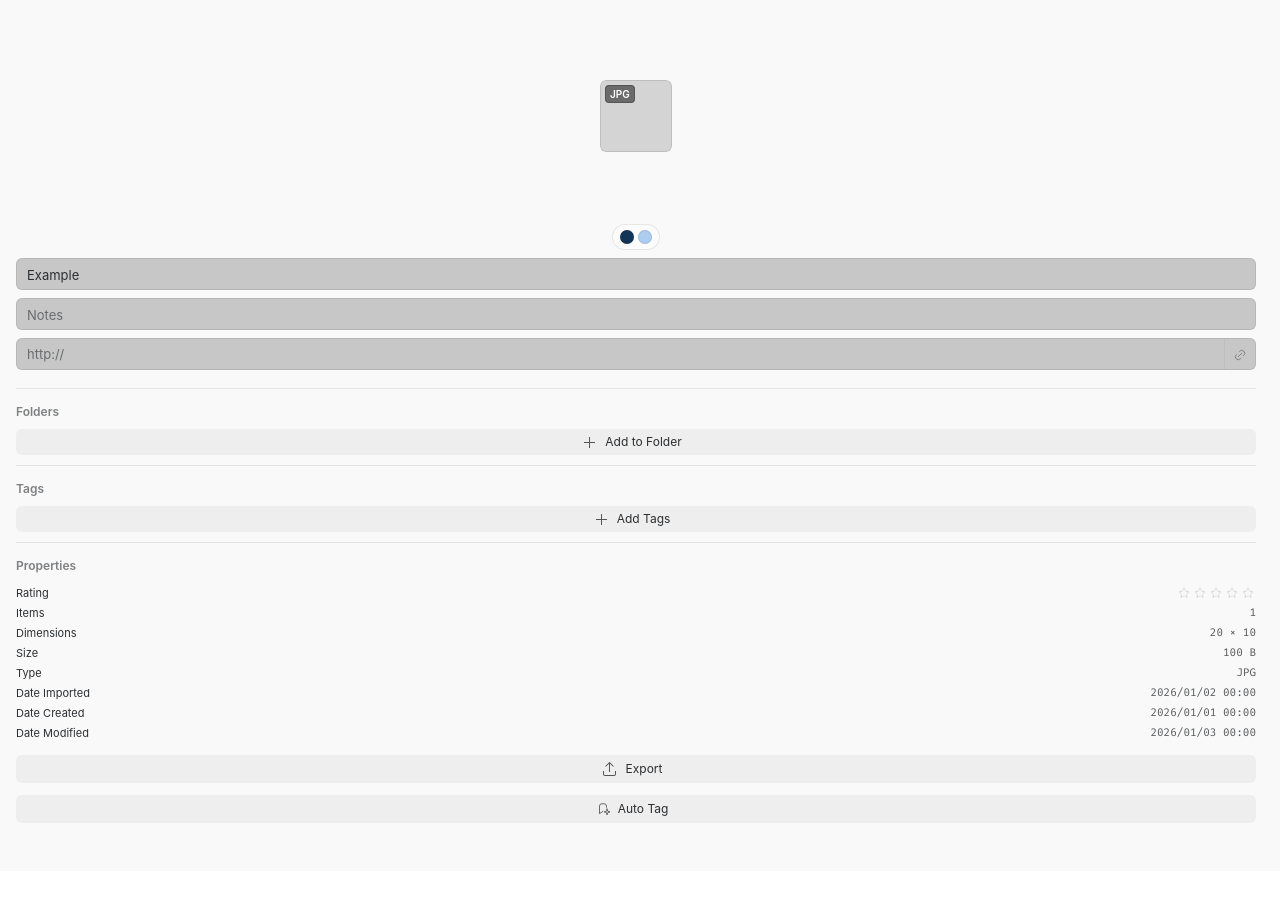
Inspector presentation branches › reuses the shared entity actions for a single-media preview
Right-click the element showing "JPG" at [636, 116], box [600, 80, 672, 152]
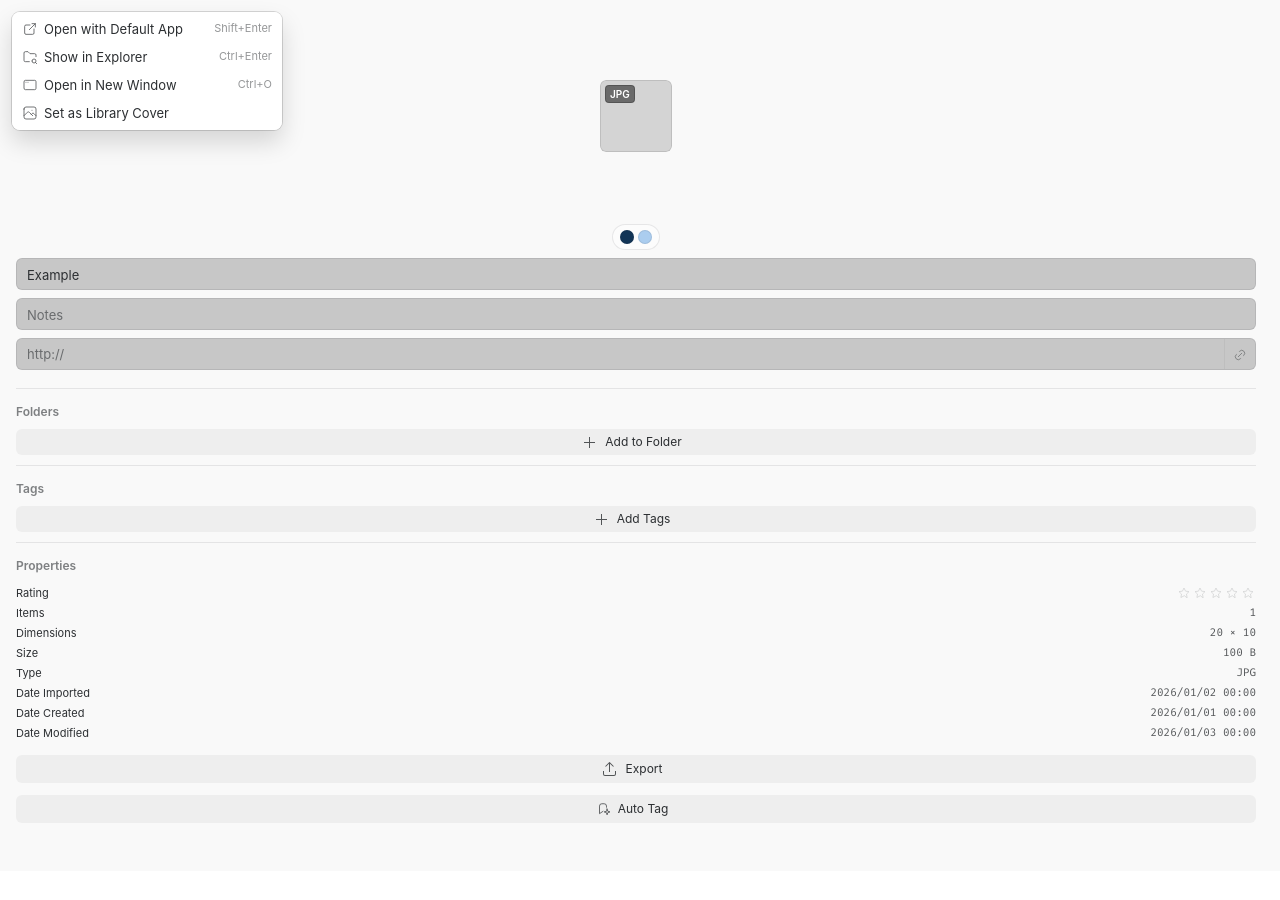
Expected: the text "Open with Default App" is shown, [44, 19, 186, 39]
Expected: the text "Show in Explorer" is shown, [44, 49, 147, 65]
Expected: the text "Open in New Window" is shown, [44, 77, 176, 93]
